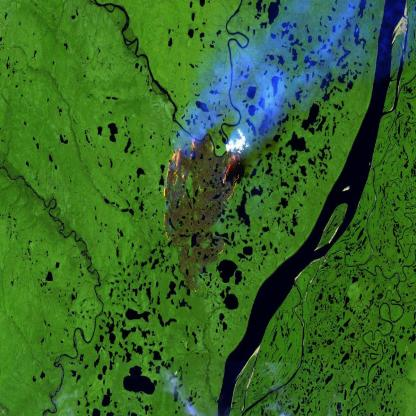fire: (157, 134, 247, 260)
